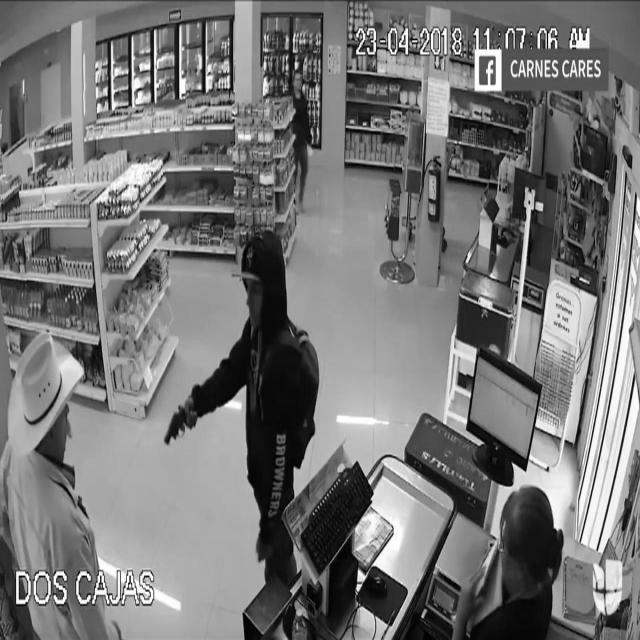Gun: (160, 396, 194, 462)
